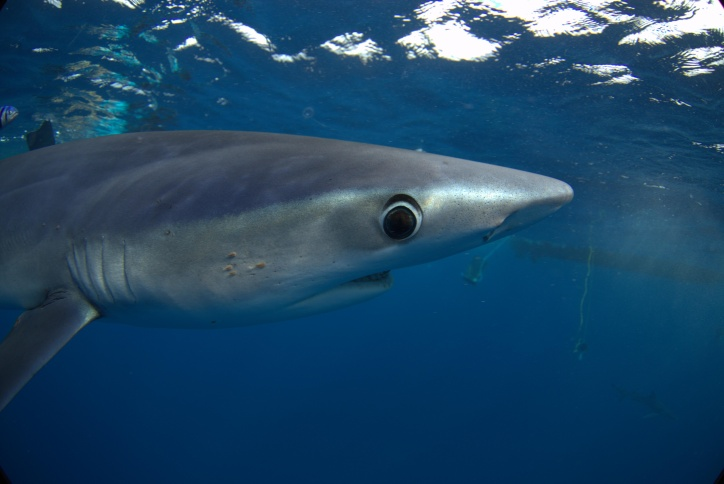Azul: (1, 73, 641, 423)
